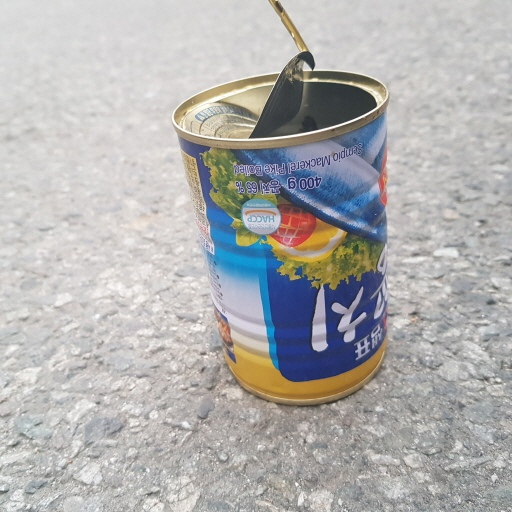Metal_1: (172, 1, 399, 406)
